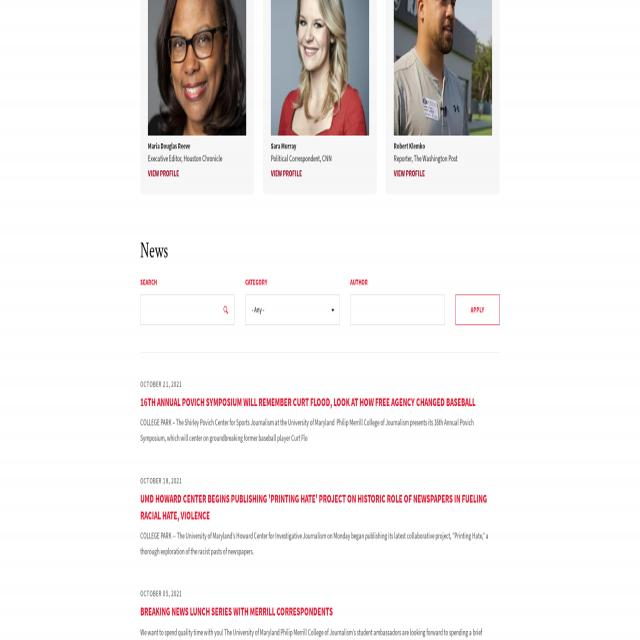button: (148, 0, 246, 135), (271, 0, 369, 135), (394, 0, 492, 135), (455, 294, 500, 325)
field: (350, 294, 446, 325), (140, 294, 235, 325), (245, 294, 340, 325)
